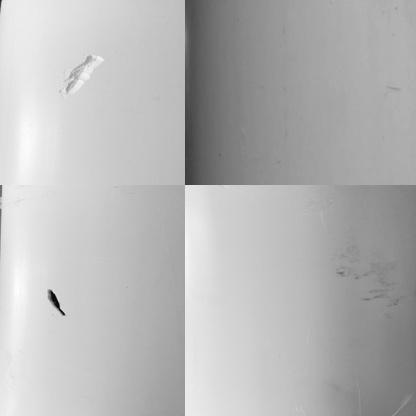kongdong: (43, 284, 70, 321)
sunshang: (58, 49, 105, 102)
